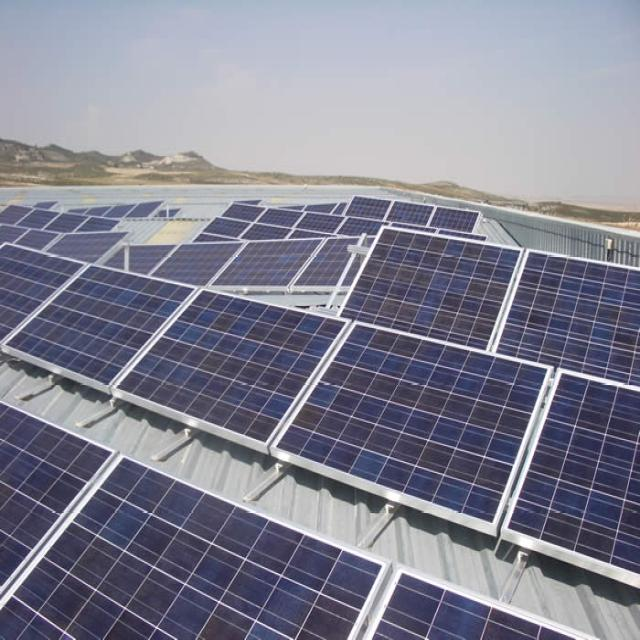clean-solar-panel: (0, 245, 640, 586), (1, 402, 579, 638), (341, 227, 640, 386)
